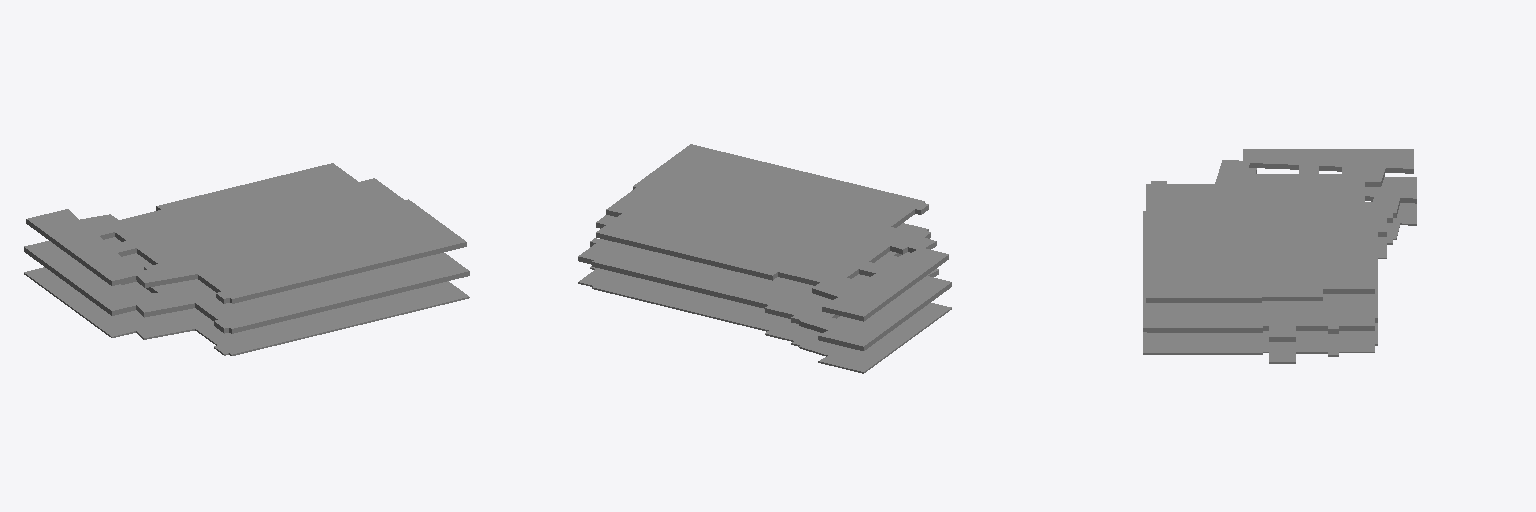
File: ISELF_floors.obj
The picture shows the model from 3 angles: view 1: azimuth 30°, elevation 25°; view 2: azimuth 150°, elevation 25°; view 3: azimuth 270°, elevation 25°; orthographic projection.
Parts seen in each view (by area): view 1: 3rdFloor, 1stFLoorc, 1stFLoorf; view 2: 3rdFloor, 1stFLoorc, 1stFLoorf; view 3: 3rdFloor, 1stFLoorc, 1stFLoorf.
Part boxes in pixels (x1,y1,x2,y2): 3rdFloor: (26, 163, 466, 303); 1stFLoorc: (24, 237, 469, 333); 1stFLoorf: (24, 267, 469, 355); 3rdFloor: (596, 144, 948, 321); 1stFLoorc: (578, 215, 951, 350); 1stFLoorf: (578, 252, 951, 373); 3rdFloor: (1146, 149, 1413, 302); 1stFLoorc: (1143, 177, 1416, 341); 1stFLoorf: (1143, 202, 1416, 363).
Size of the model in its own units: 2510 by 408 by 1809.